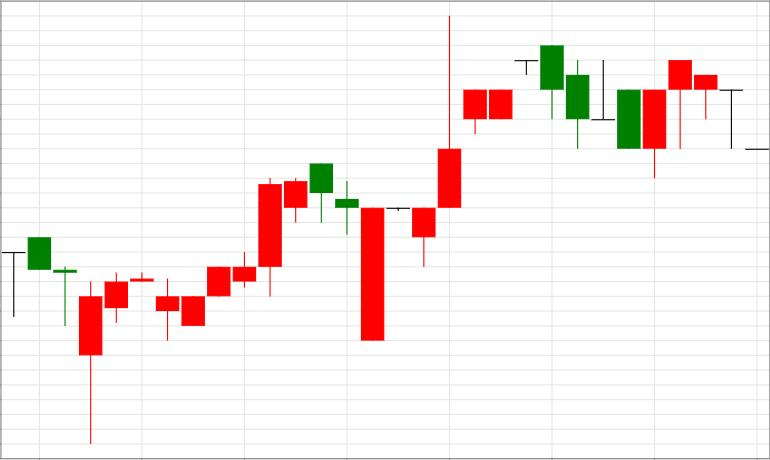bullish_engulfing_rise: (515, 46, 666, 179)
